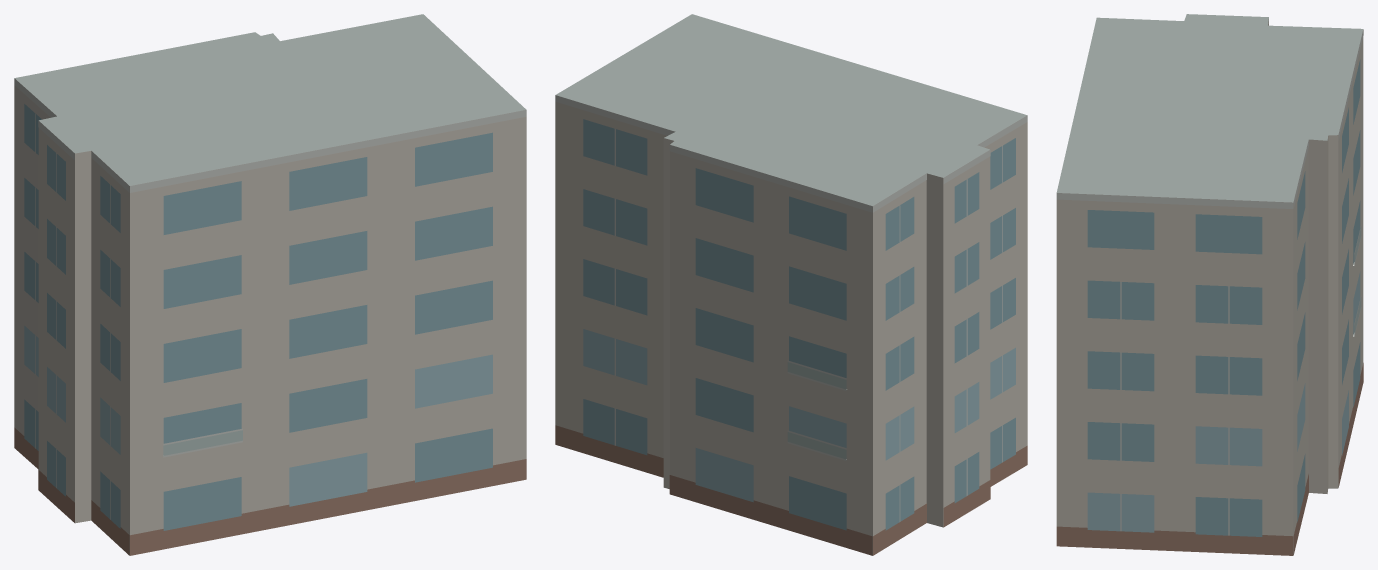
Rendered from survey-upis-32507719.glb.
The picture shows the model from 3 angles, left to right: view 1: azimuth 30°, elevation 25°; view 2: azimuth 150°, elevation 25°; view 3: azimuth 270°, elevation 25°; orthographic projection. The views are drawn at different scales.
Parts seen in each view (by area): view 1: survey-upis-32507719.tmp; view 2: survey-upis-32507719.tmp; view 3: survey-upis-32507719.tmp.
Part boxes in pixels (x1,y1,x2,y2): survey-upis-32507719.tmp: (14,14,526,555); survey-upis-32507719.tmp: (555,14,1027,555); survey-upis-32507719.tmp: (1056,14,1363,555).
Size of the model in its own units: 14.88 by 13 by 10.24.
